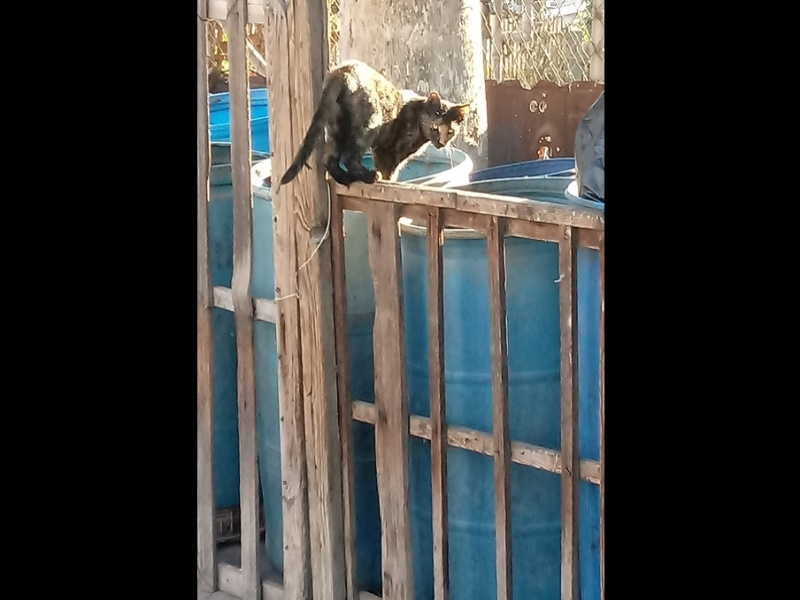cat: (271, 53, 477, 201)
